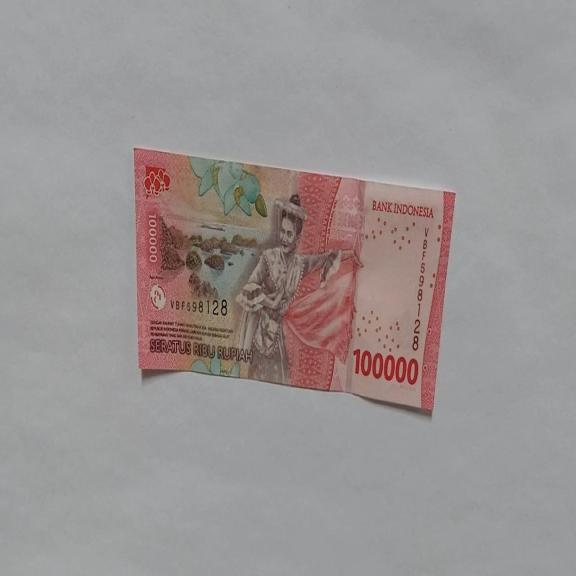Kertas: (133, 146, 456, 416), (352, 346, 419, 386)
